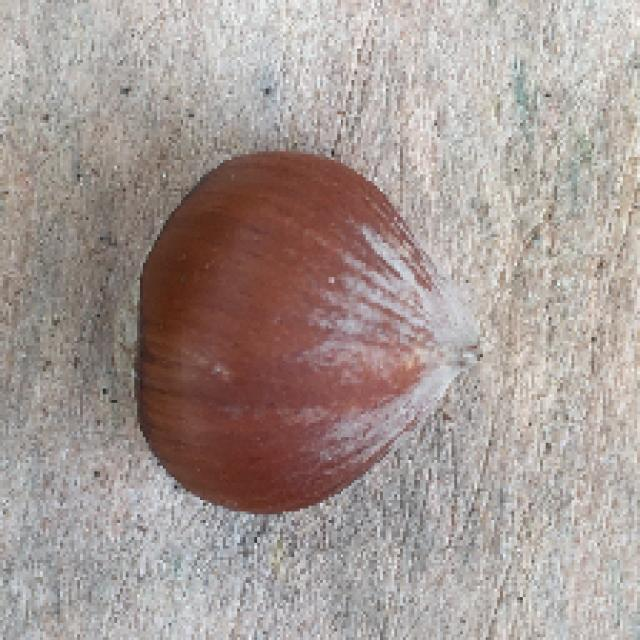QualityHazelnut: (110, 147, 486, 515)
